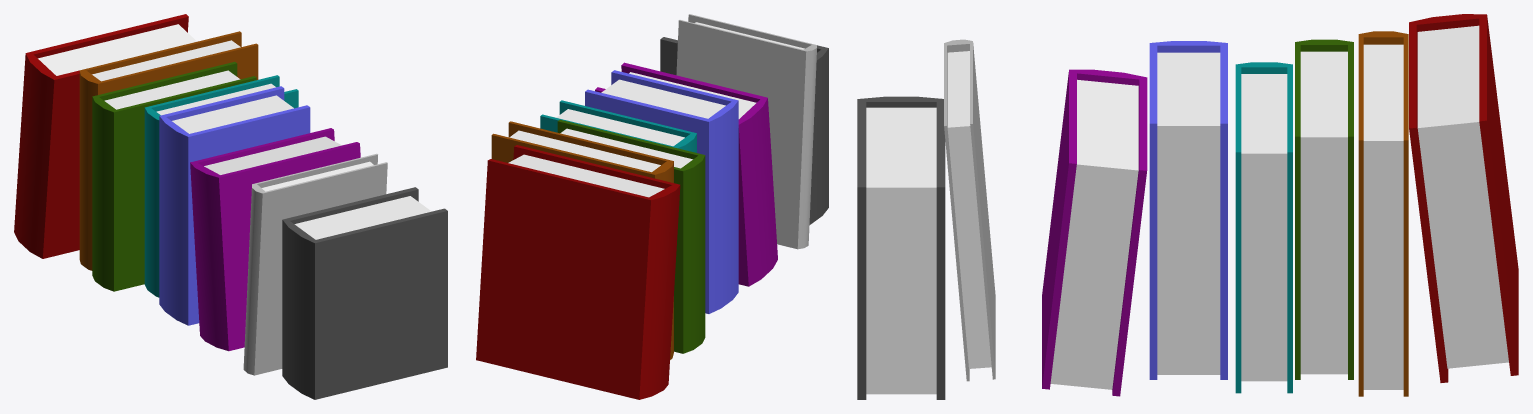
The model's file is Books SHC QuickOffice.fbx.
3 views of the same model, side by side, from view 1: azimuth 30°, elevation 25°; view 2: azimuth 150°, elevation 25°; view 3: azimuth 270°, elevation 25° (orthographic). The views are drawn at different scales.
Visible parts, largest first — view 1: Group1; view 2: Group1; view 3: Group1.
Part boxes in pixels (bbox=[...]): Group1: bbox=[14, 14, 447, 399]; Group1: bbox=[476, 14, 828, 399]; Group1: bbox=[857, 14, 1518, 399].
Size of what is drawn, in the model's own units: 0.2625 by 0.2494 by 0.5689.
